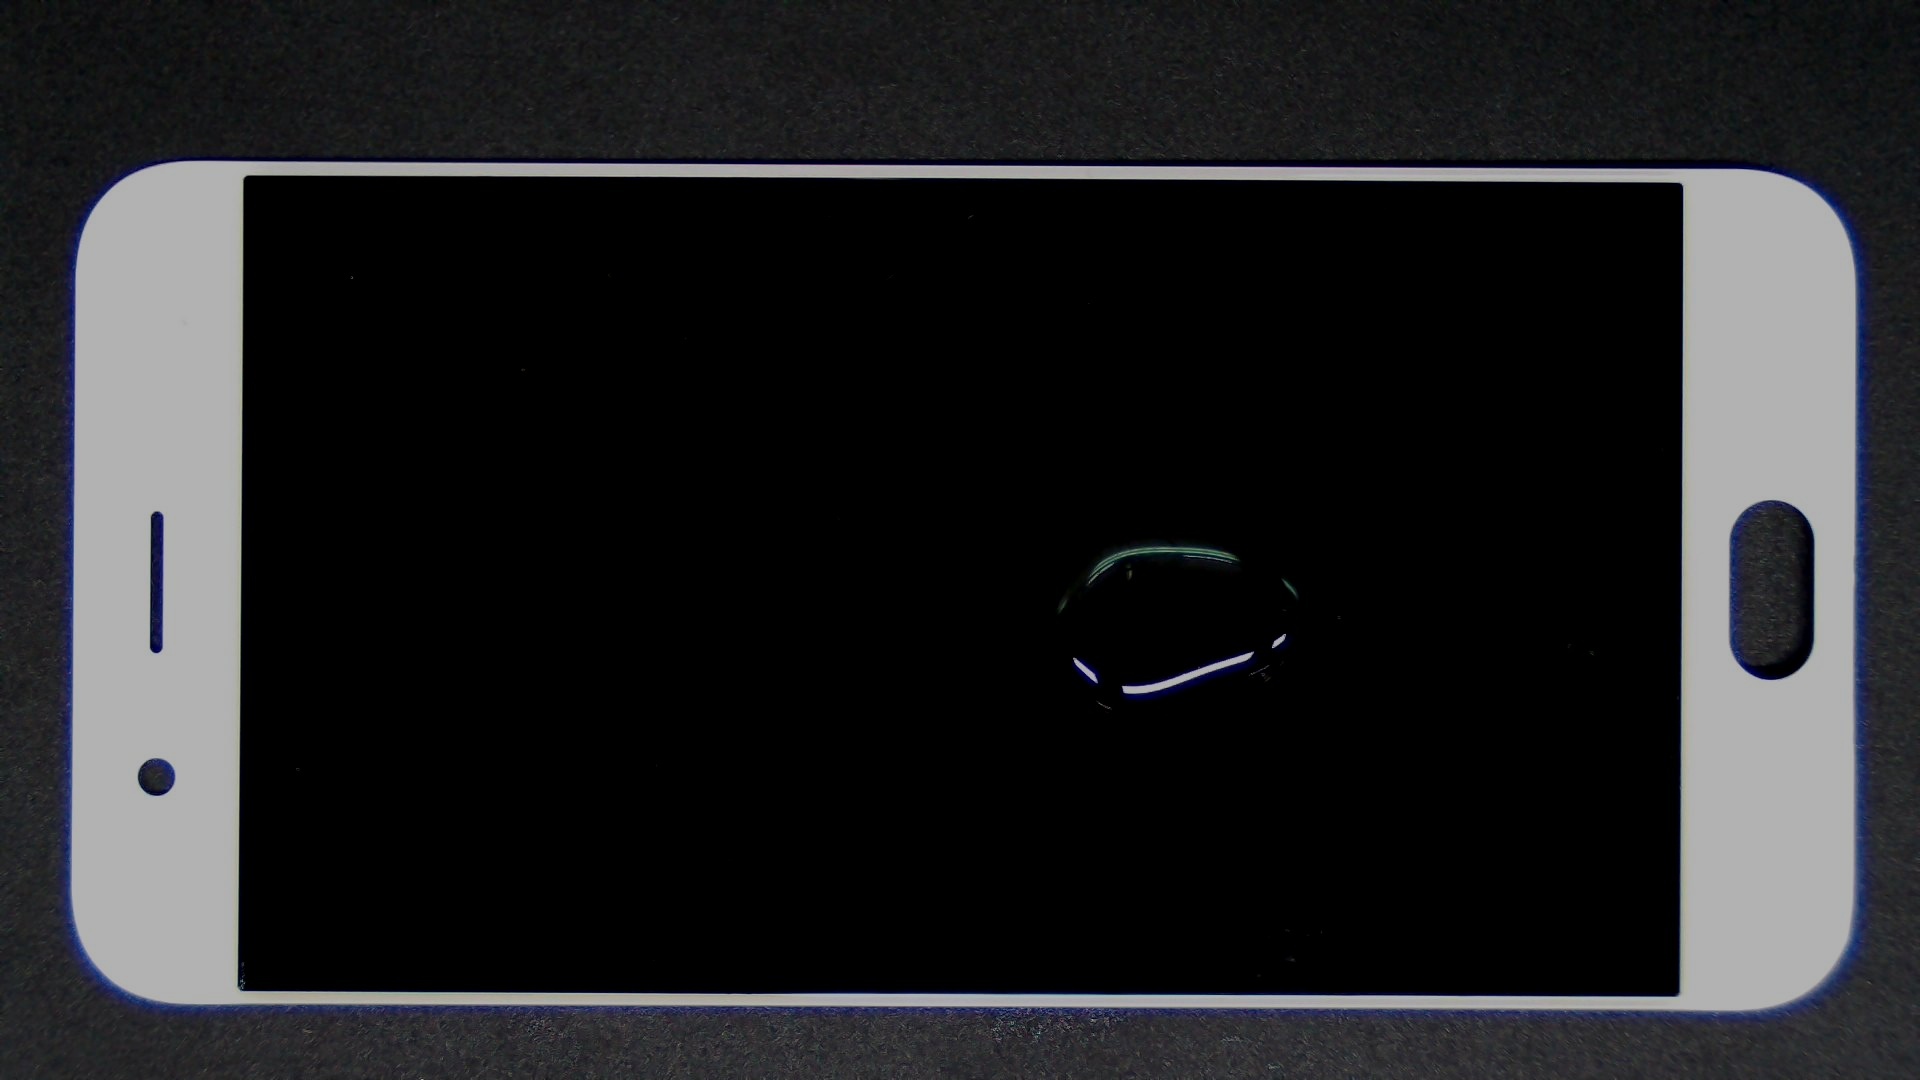oil: (593, 265, 1778, 795)
